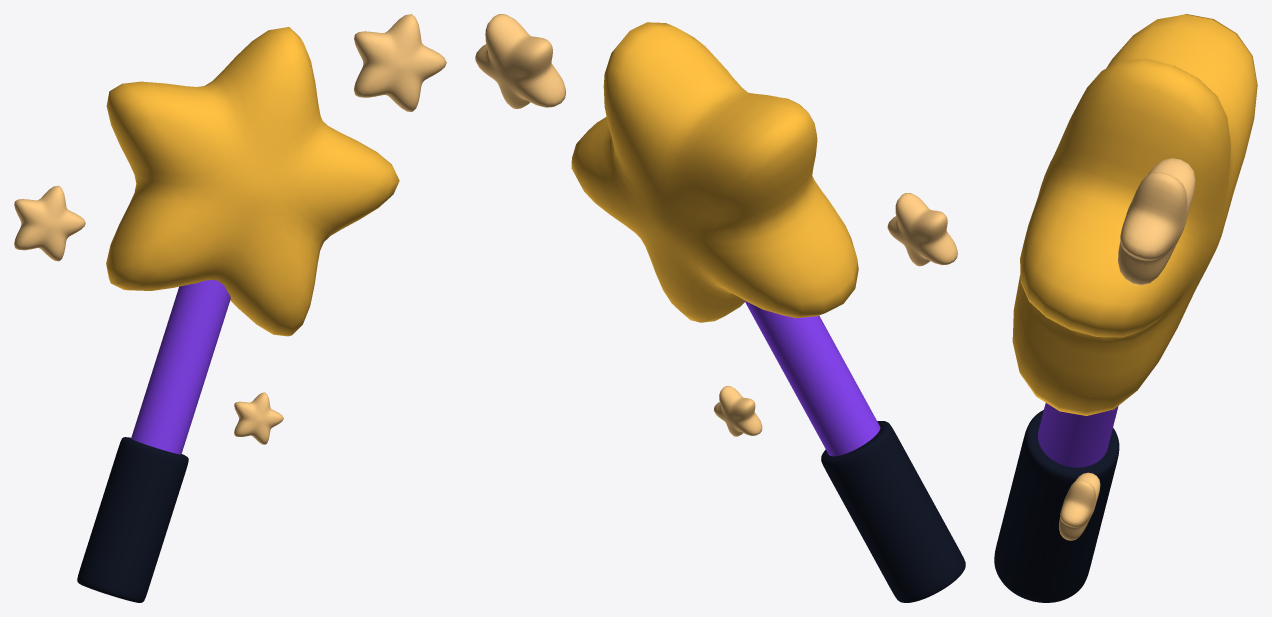
3 renders of one model, left to right at view 1: azimuth 30°, elevation 25°; view 2: azimuth 150°, elevation 25°; view 3: azimuth 270°, elevation 25°, orthographic. The views are drawn at different scales.
Parts seen in each view (by area): view 1: 14; view 2: 14; view 3: 14.
Boxes of the visible parts, x1,y1,x2,y2 form: 14: (14,14,446,602); 14: (475,14,965,602); 14: (994,14,1257,602).
Bounding box in the file's own units: 7.59 × 8.31 × 2.98.
